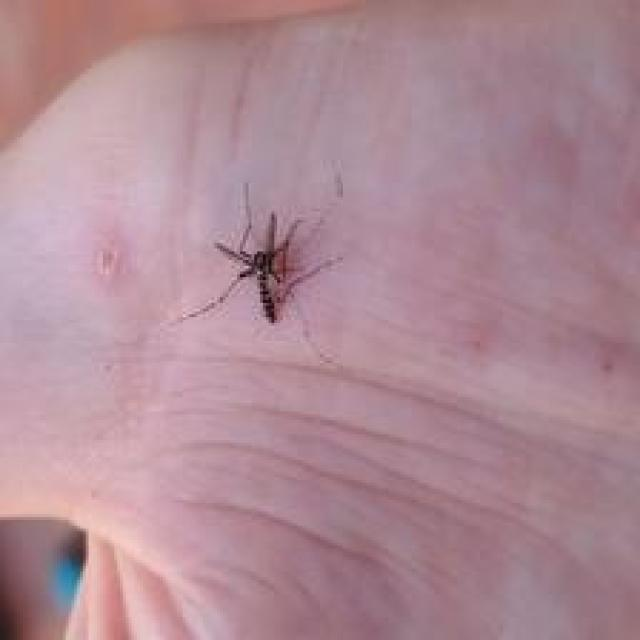Aedes albopictus: (176, 179, 344, 364)
